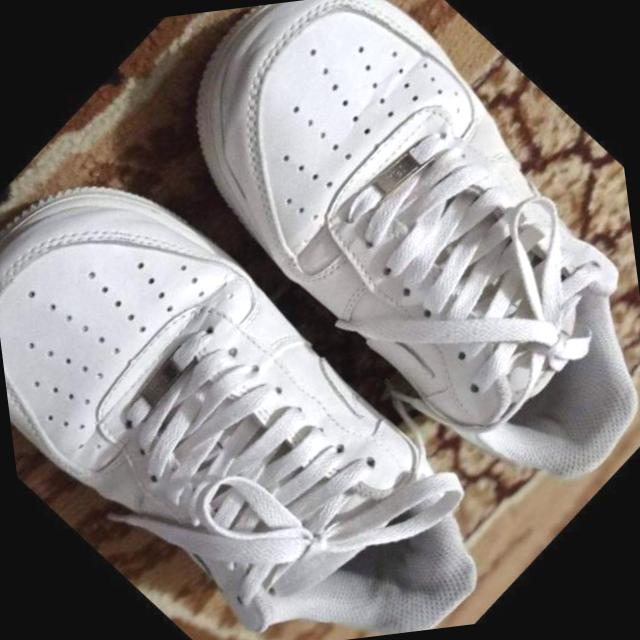nike_fake_airforce: (0, 74, 547, 640), (108, 0, 640, 579)
